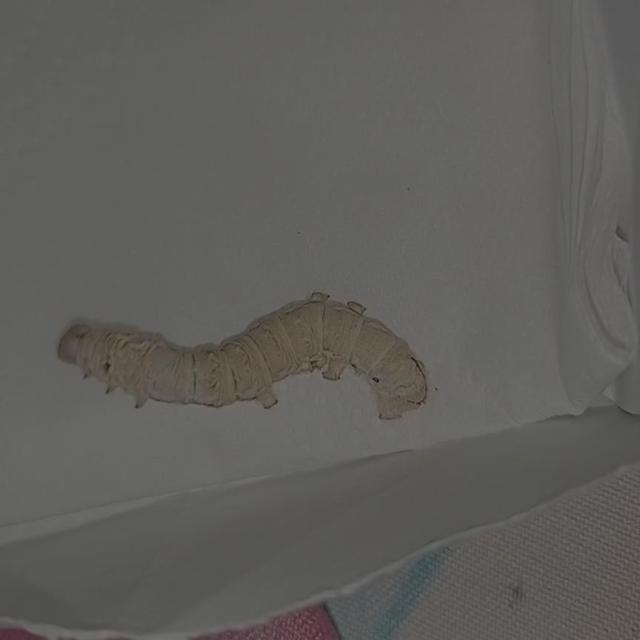Healthy: (49, 278, 432, 443)
